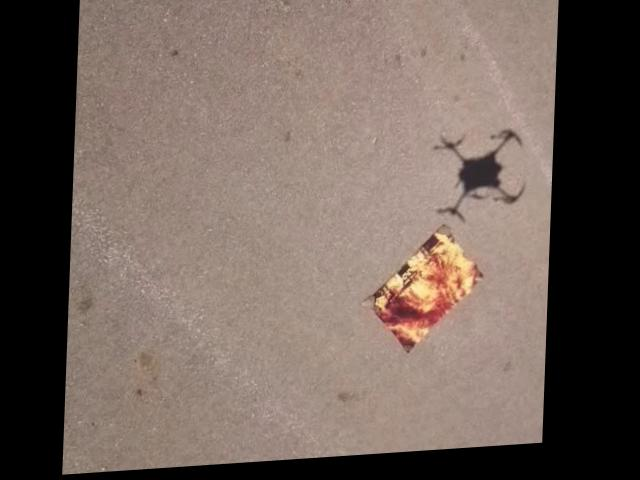fire-poster: (366, 227, 491, 362)
